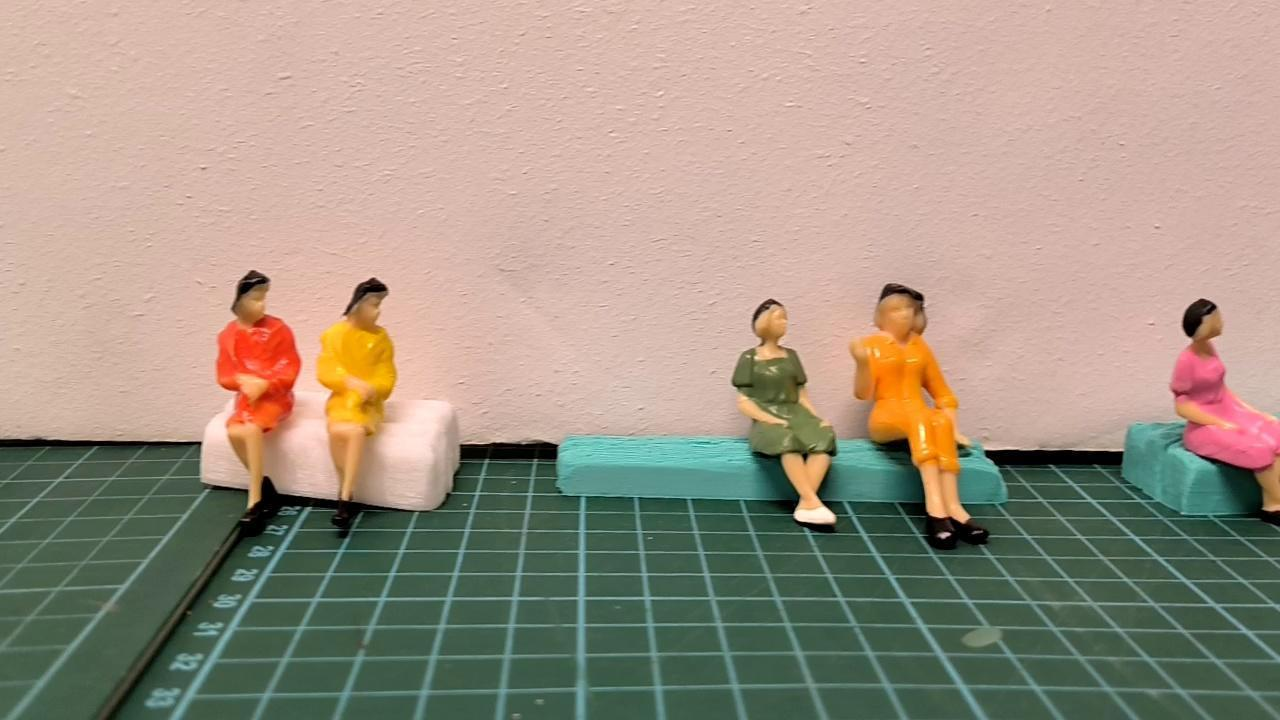human: (845, 281, 996, 550), (728, 297, 842, 526), (1169, 295, 1280, 524), (213, 269, 305, 534), (313, 277, 397, 529)
